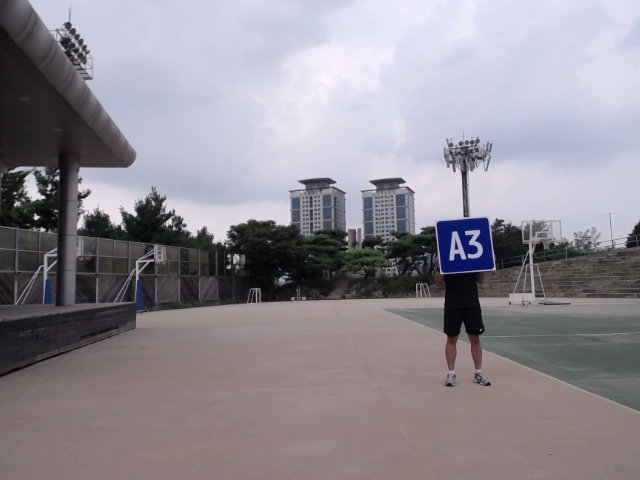delivery_a3: (434, 217, 496, 274)
